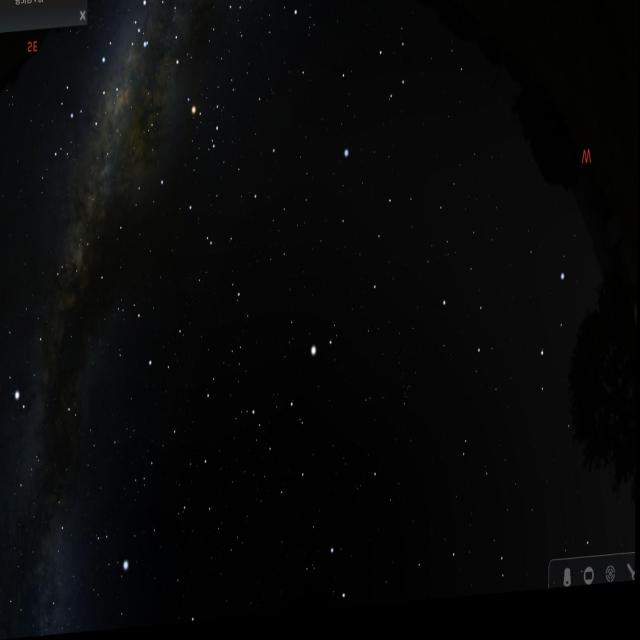aquila: (0, 253, 87, 419)
bootes: (256, 321, 353, 513)
leo: (433, 254, 579, 418)
lyra: (87, 510, 136, 584)
sagittarius: (48, 34, 134, 160)
scorpius: (130, 0, 232, 166)
